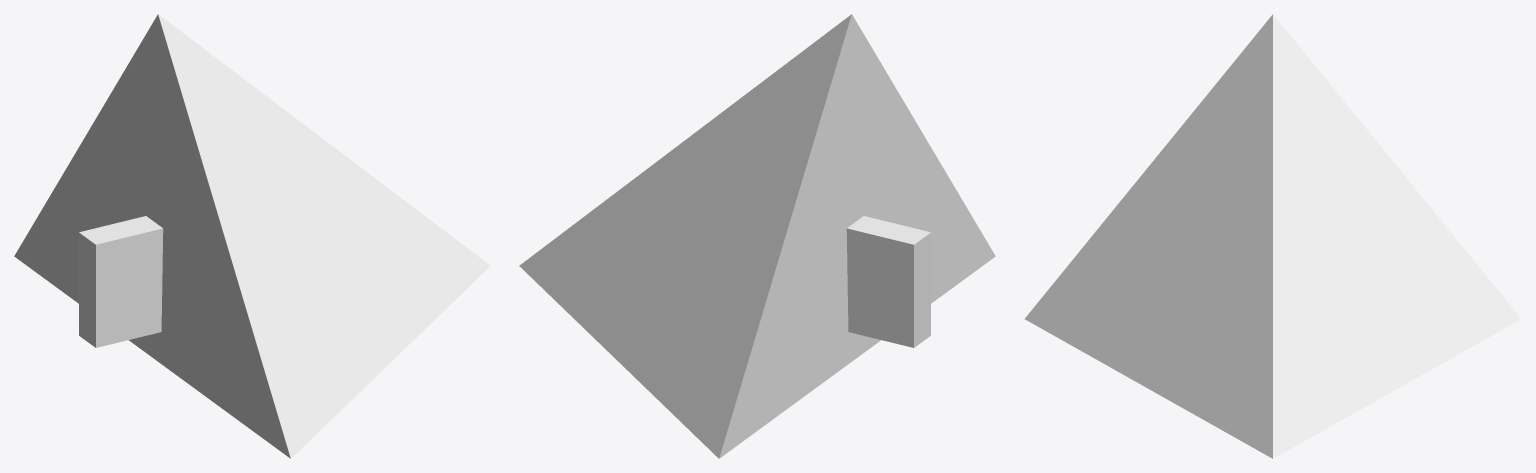
3 views of the same model, side by side, from view 1: azimuth 30°, elevation 25°; view 2: azimuth 150°, elevation 25°; view 3: azimuth 270°, elevation 25° (orthographic). The views are drawn at different scales.
Visible parts, largest first — view 1: Cone; view 2: Cone; view 3: Cone.
Part boxes in pixels (<box>): Cone: <box>14,14,490,458</box>; Cone: <box>519,14,995,458</box>; Cone: <box>1025,14,1520,458</box>.
Bounding box in the file's own units: 0.6229 × 0.505 × 0.74.
Materials: 2 (2 with a texture image).
